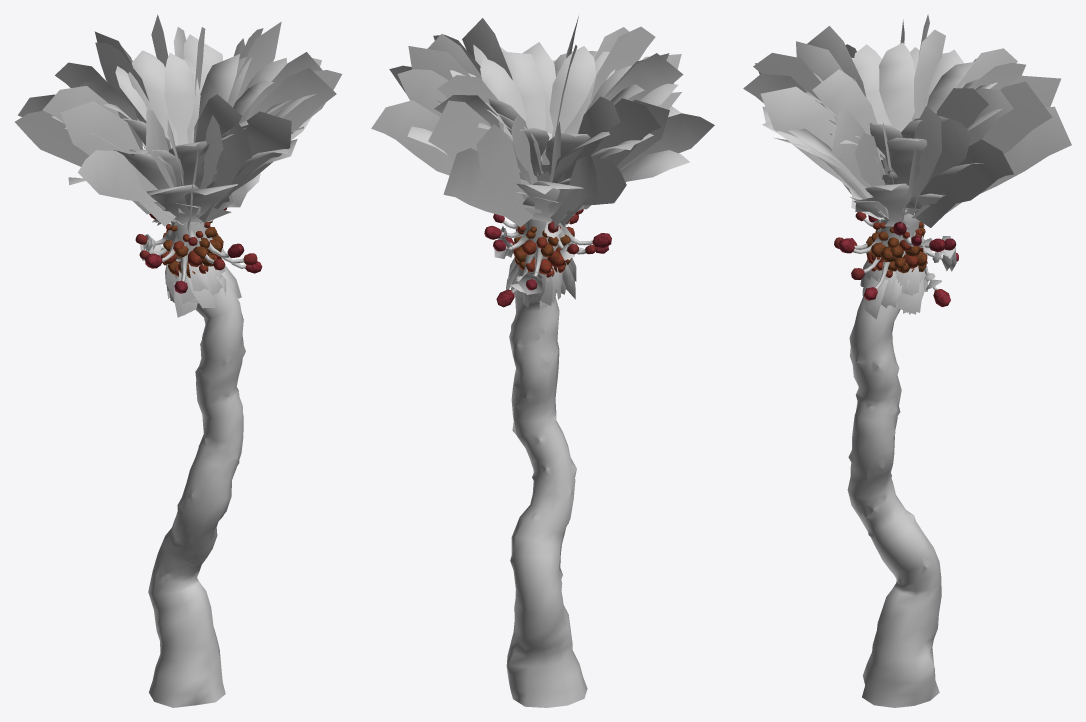
Rendered from Tree6_2_L1.fbx.
3 renders of one model, left to right at view 1: azimuth 30°, elevation 25°; view 2: azimuth 150°, elevation 25°; view 3: azimuth 270°, elevation 25°, orthographic.
Parts seen in each view (by area): view 1: polySurface75; view 2: polySurface75; view 3: polySurface75.
Boxes of the visible parts, left/top/right/bottom form: polySurface75: left=15, top=14, right=342, bottom=707; polySurface75: left=371, top=16, right=714, bottom=707; polySurface75: left=743, top=14, right=1071, bottom=707.
Bounding box in the file's own units: 656 × 1386 × 655.
